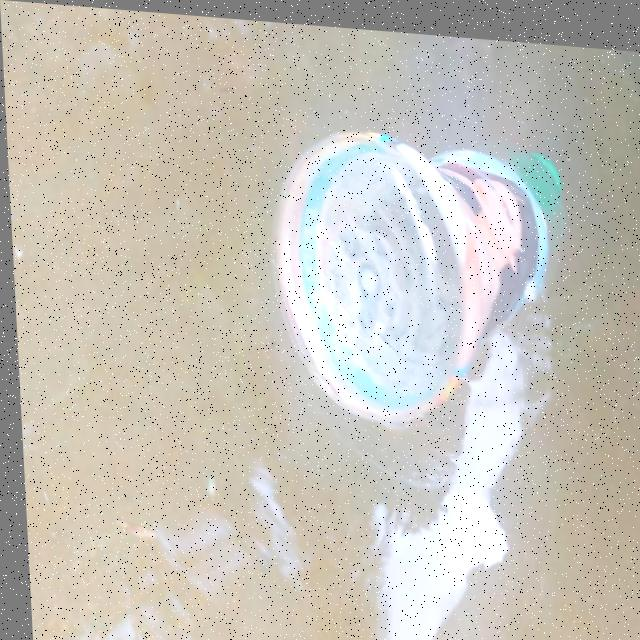waterbottle: (261, 102, 611, 412)
